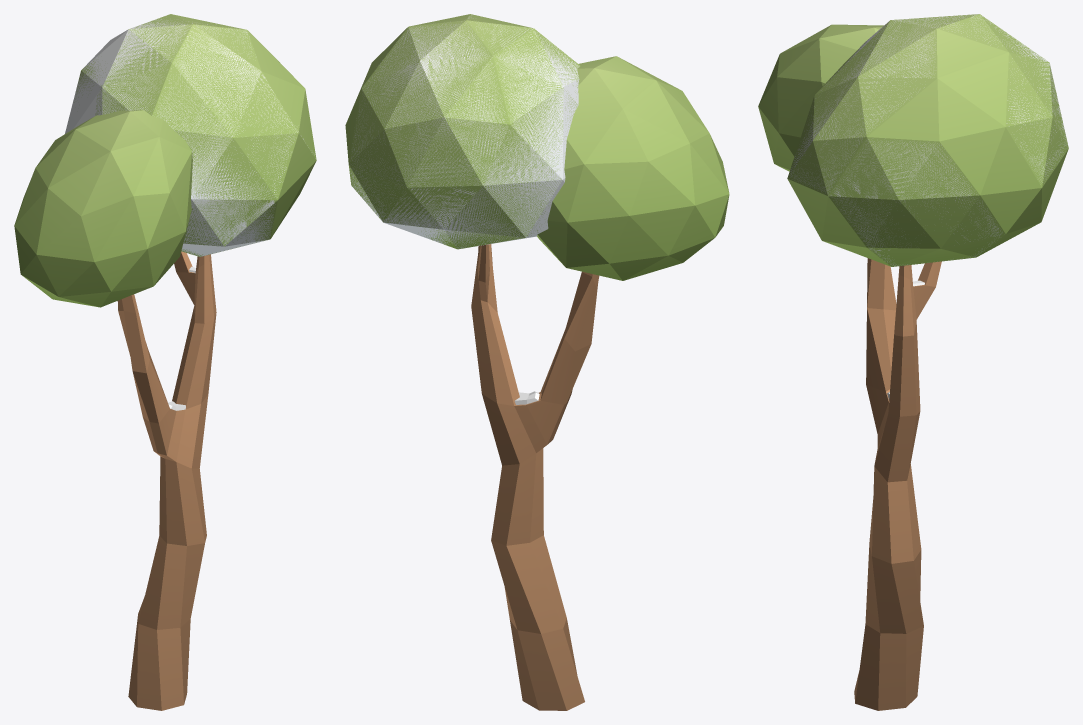
Rendered from feuillu2_complet.fbx.
3 views of the same model, side by side, from view 1: azimuth 30°, elevation 25°; view 2: azimuth 150°, elevation 25°; view 3: azimuth 270°, elevation 25° (orthographic). The views are drawn at different scales.
Parts seen in each view (by area): view 1: Icosphere.003, Icosphere.002, Cylinder.001, Icosphere.010; view 2: Icosphere.003, Icosphere.002, Icosphere.010, Cylinder.001; view 3: Icosphere.003, Cylinder.001, Icosphere.010, Icosphere.002.
Part boxes in pixels (x1,y1,x2,y2): Icosphere.003: (74, 14, 316, 256); Icosphere.002: (14, 110, 192, 307); Cylinder.001: (117, 251, 216, 710); Icosphere.010: (65, 18, 315, 256); Icosphere.003: (345, 14, 580, 249); Icosphere.002: (537, 56, 729, 280); Icosphere.010: (350, 15, 579, 248); Cylinder.001: (471, 244, 599, 710); Icosphere.003: (787, 14, 1068, 266); Cylinder.001: (854, 258, 941, 710); Icosphere.010: (789, 14, 1067, 266); Icosphere.002: (758, 24, 883, 171).
Size of the model in its own units: 5.83 by 11.87 by 4.78.
Materials: 2 (2 with a texture image).
